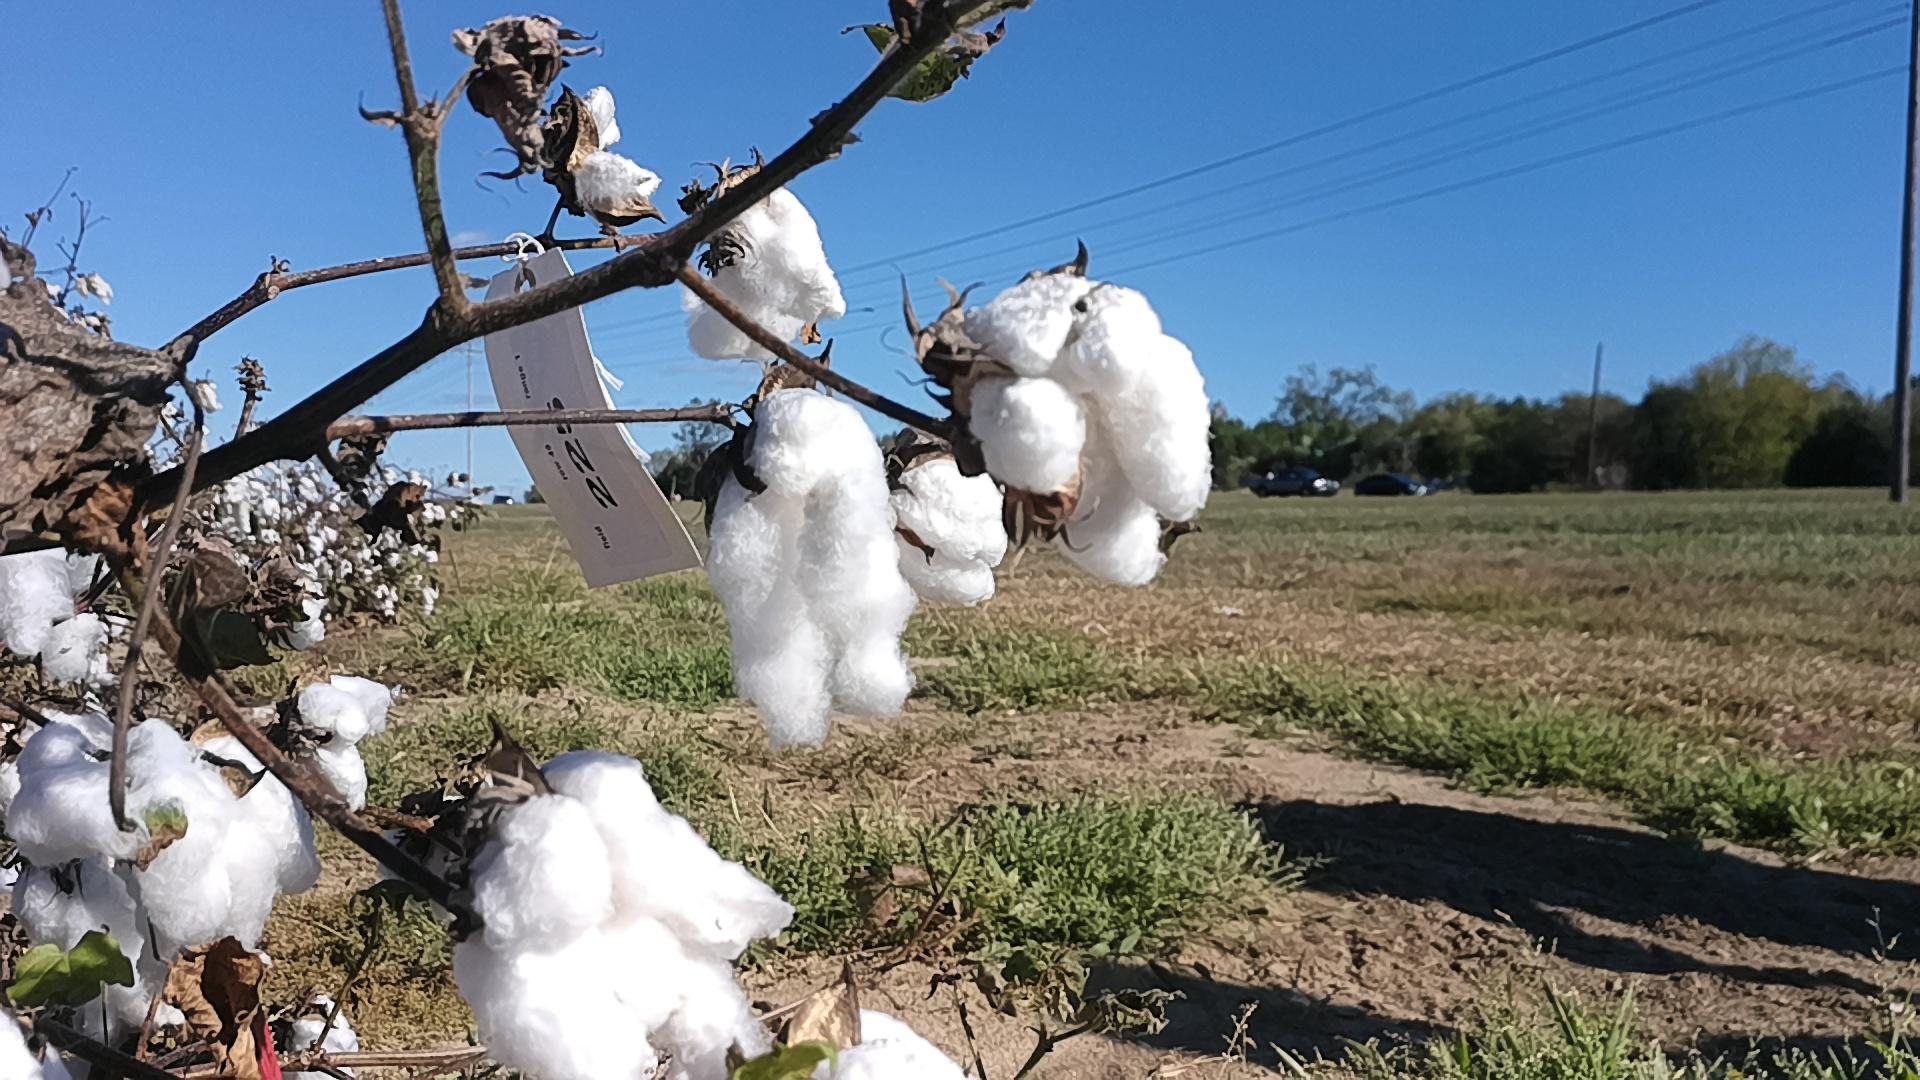cotton_ready: (452, 750, 796, 1080), (957, 277, 1212, 587), (707, 390, 914, 748), (12, 719, 232, 939), (686, 182, 845, 361), (206, 738, 320, 944), (11, 862, 144, 1039), (895, 455, 1007, 607), (0, 688, 119, 806), (299, 675, 392, 814), (811, 1009, 971, 1080), (574, 83, 661, 208), (378, 808, 459, 919), (456, 835, 506, 1010), (0, 543, 74, 657), (273, 994, 363, 1080), (38, 616, 117, 683), (0, 1010, 70, 1080), (277, 560, 326, 654)
